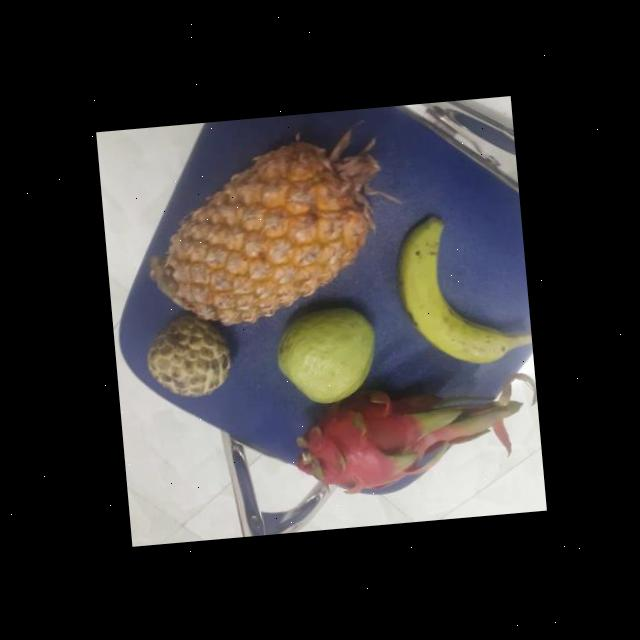Sakya fruit: (142, 310, 238, 398)
banana: (393, 209, 523, 369)
guava: (268, 300, 382, 408)
pineapple: (152, 140, 388, 324)
pitaya: (292, 382, 466, 502)
